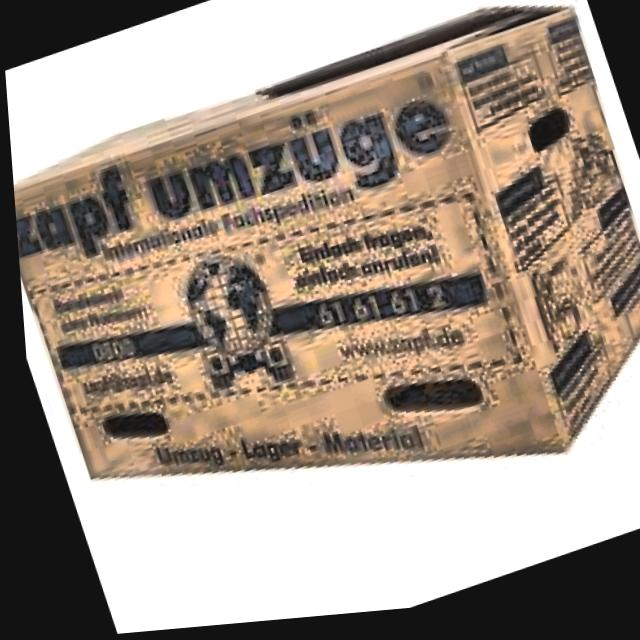Cardbox: (0, 0, 640, 630)
